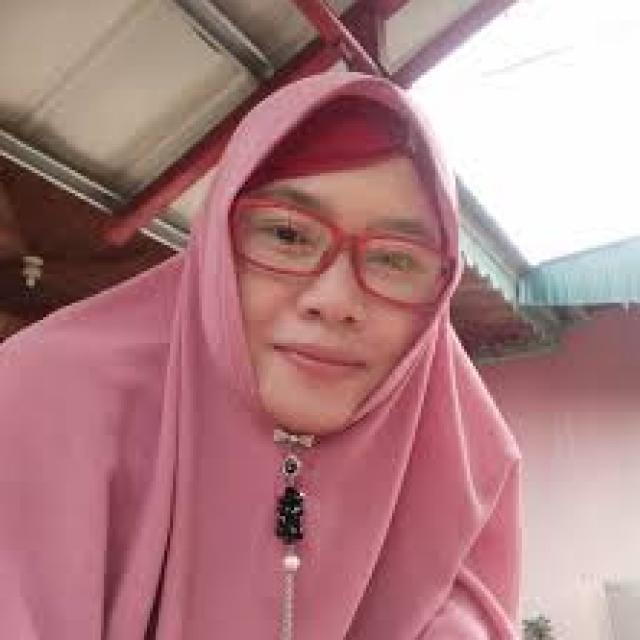Glasses: (225, 196, 458, 317)
